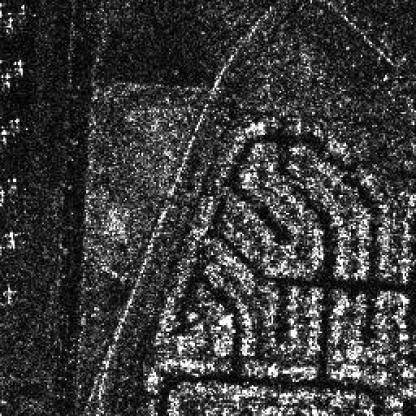airplane: (10, 57, 26, 76), (6, 112, 24, 128), (5, 174, 23, 188), (3, 16, 18, 31), (0, 73, 13, 89), (0, 130, 13, 145)
